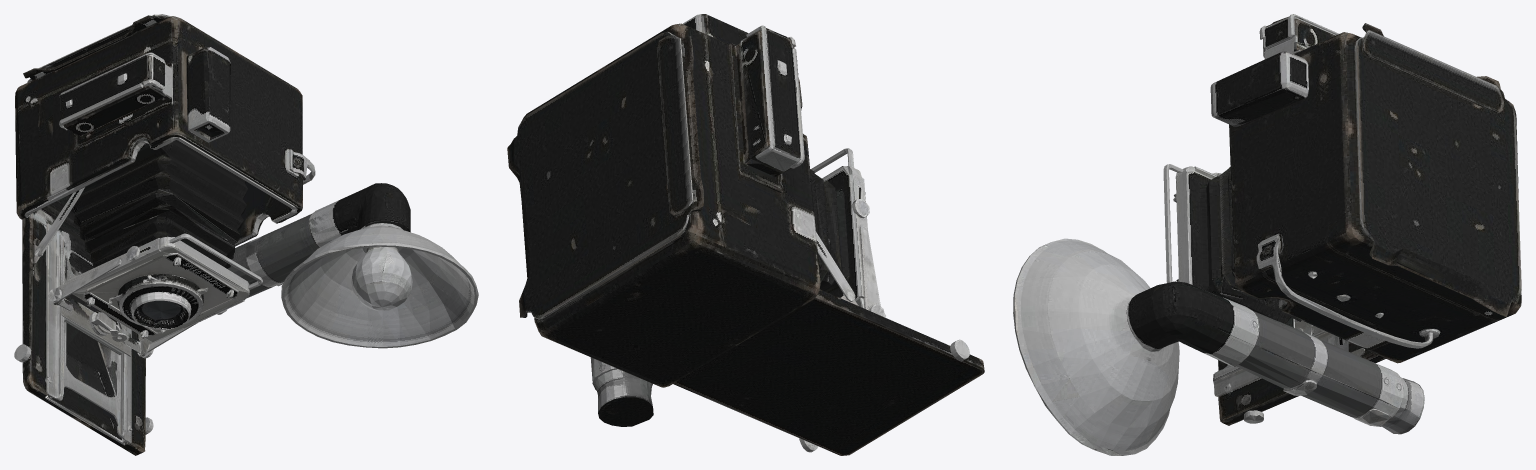
Rendered from ewm_camera.glb.
3 views of the same model, side by side, from view 1: azimuth 30°, elevation 25°; view 2: azimuth 150°, elevation 25°; view 3: azimuth 270°, elevation 25° (orthographic). The views are drawn at different scales.
Parts seen in each view (by area): view 1: ewm_camera; view 2: ewm_camera; view 3: ewm_camera.
Part boxes in pixels (x1,y1,x2,y2): ewm_camera: (14, 14, 478, 455); ewm_camera: (507, 14, 984, 455); ewm_camera: (1013, 14, 1521, 455).
Size of the model in its own units: 0.2977 by 0.2854 by 0.298.
Materials: 1 (1 with a texture image).
